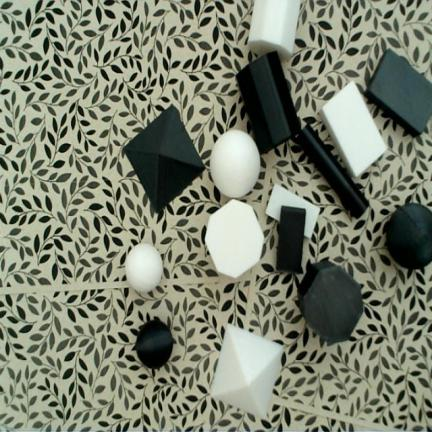Cilindro: (296, 125, 368, 220)
Esfera: (210, 130, 260, 197), (386, 203, 431, 269), (125, 243, 163, 292), (136, 320, 173, 368)
Paralelepipedo: (320, 80, 388, 179), (366, 48, 431, 138), (265, 183, 320, 239), (276, 205, 306, 274)
Piramide: (125, 105, 206, 212), (211, 323, 284, 418)
Prisma_hexagonal: (236, 50, 300, 152), (298, 260, 364, 344), (204, 200, 264, 278), (248, 0, 301, 60)
